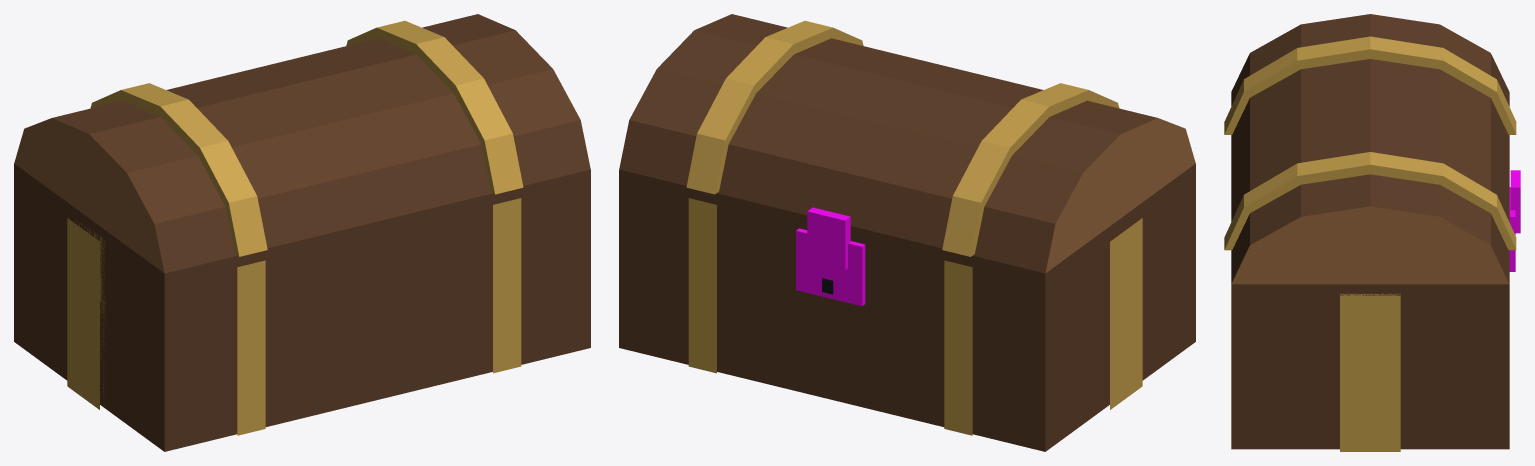
The model's file is prop_treasure_chest.glb.
The picture shows the model from 3 angles, left to right: view 1: azimuth 30°, elevation 25°; view 2: azimuth 150°, elevation 25°; view 3: azimuth 270°, elevation 25°; orthographic projection. The views are drawn at different scales.
Visible parts, largest first — view 1: prop_treasure_chest__mesh, prop_treasure_chest__lid; view 2: prop_treasure_chest__mesh, prop_treasure_chest__lid; view 3: prop_treasure_chest__lid, prop_treasure_chest__mesh.
Boxes of the visible parts, x1,y1,x2,y2 form: prop_treasure_chest__mesh: (14,163,590,451); prop_treasure_chest__lid: (14,14,590,273); prop_treasure_chest__mesh: (619,163,1195,451); prop_treasure_chest__lid: (619,14,1195,273); prop_treasure_chest__lid: (1224,14,1520,284); prop_treasure_chest__mesh: (1231,187,1515,451).
Bounding box in the file's own units: 0.924 × 0.551 × 0.5858.
1 material, 1 textured.
